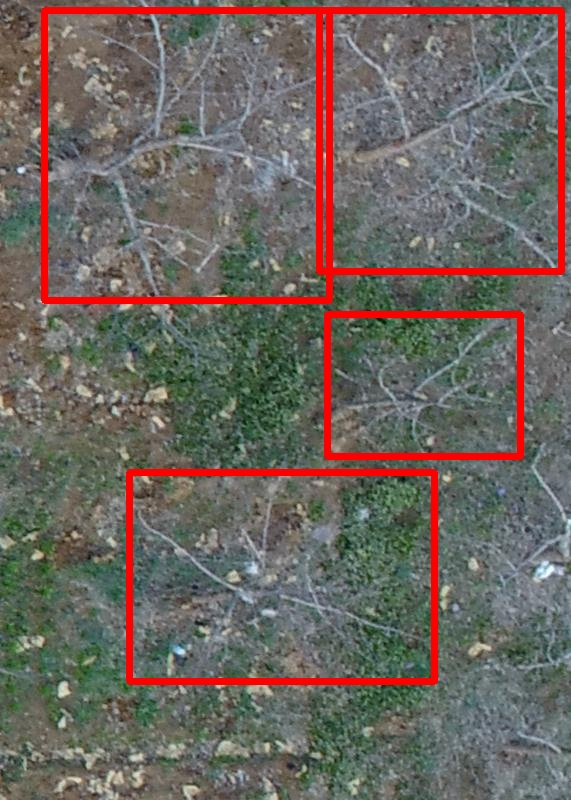apple: (44, 10, 329, 300), (129, 472, 434, 681), (319, 10, 561, 271), (327, 314, 520, 456)
